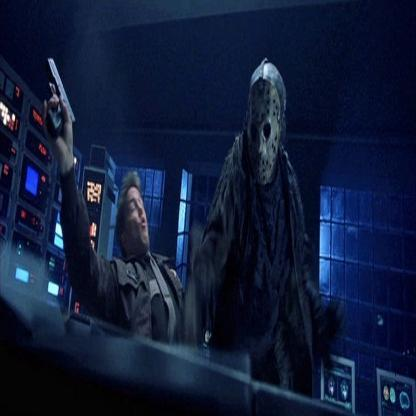gun: (40, 46, 80, 151)
